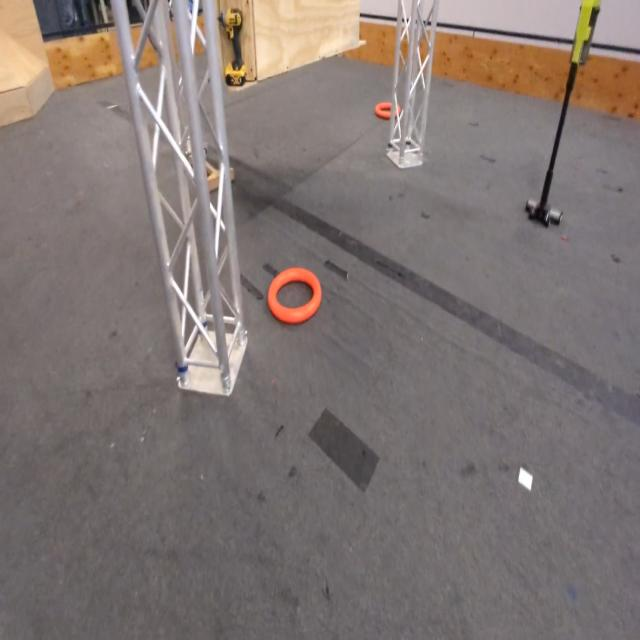note: (265, 268, 322, 322), (376, 100, 402, 120)
